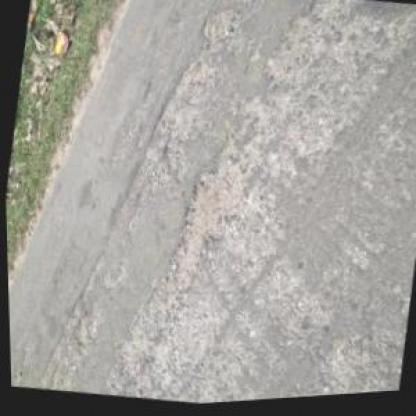pothole: (160, 153, 244, 304), (138, 50, 214, 177), (198, 6, 242, 52)
